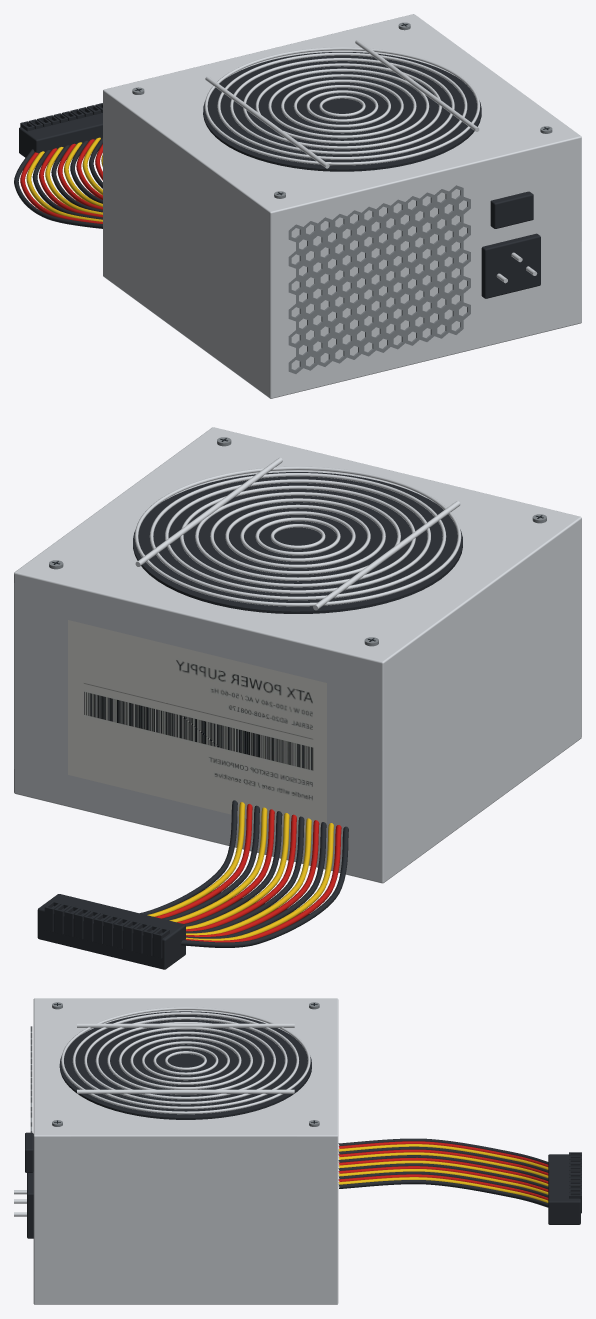
The model's file is power-supply.glb.
The picture shows the model from 3 angles, top to bottom: view 1: azimuth 30°, elevation 25°; view 2: azimuth 150°, elevation 25°; view 3: azimuth 270°, elevation 25°; orthographic projection. The views are drawn at different scales.
Visible parts, largest first — view 1: PSU enclosure, Open honeycomb ventilation, Fan aperture, Fan grille ring (×9), IEC inlet, Flexible insulated PSU cable (×5), ATX cable connector, Grille brace (×2), Power switch; view 2: PSU enclosure, Power specification label, Fan aperture, Fan grille ring (×9), Flexible insulated PSU cable (×16), ATX cable connector, Grille brace (×2); view 3: PSU enclosure, Fan aperture, Flexible insulated PSU cable (×16), Fan grille ring (×9), Grille brace (×2), ATX cable connector, IEC inlet.
Boxes of the visible parts, left/top/right/bottom form: PSU enclosure: left=103, top=14, right=581, bottom=398; Open honeycomb ventilation: left=288, top=185, right=470, bottom=373; Fan aperture: left=203, top=52, right=481, bottom=171; Fan grille ring (×9): left=204, top=47, right=480, bottom=165; IEC inlet: left=481, top=233, right=540, bottom=298; Flexible insulated PSU cable (×5): left=14, top=148, right=102, bottom=228; ATX cable connector: left=19, top=107, right=102, bottom=157; Grille brace (×2): left=205, top=39, right=479, bottom=168; Power switch: left=490, top=191, right=533, bottom=228; PSU enclosure: left=14, top=427, right=581, bottom=883; Power specification label: left=68, top=620, right=326, bottom=837; Fan aperture: left=133, top=472, right=462, bottom=613; Fan grille ring (×9): left=134, top=466, right=461, bottom=606; Flexible insulated PSU cable (×16): left=140, top=800, right=348, bottom=947; ATX cable connector: left=37, top=894, right=185, bottom=969; Grille brace (×2): left=135, top=457, right=460, bottom=610; PSU enclosure: left=33, top=998, right=338, bottom=1304; Fan aperture: left=59, top=1011, right=311, bottom=1119; Flexible insulated PSU cable (×16): left=338, top=1138, right=548, bottom=1207; Fan grille ring (×9): left=61, top=1007, right=310, bottom=1114; Grille brace (×2): left=77, top=1023, right=294, bottom=1093; ATX cable connector: left=548, top=1154, right=580, bottom=1224; IEC inlet: left=27, top=1172, right=33, bottom=1238.
Bounding box in the file's own units: 0.1543 × 0.091 × 0.261.
3 materials, 3 textured.
